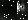person: (19, 1, 25, 14)
